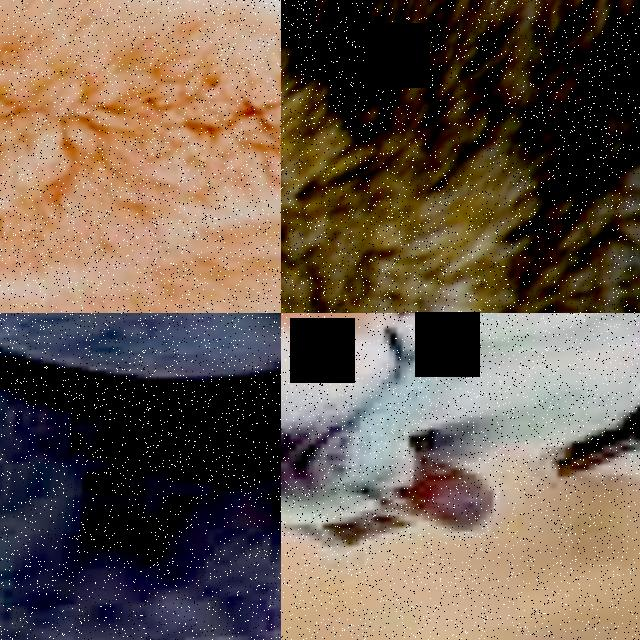dog: (281, 313, 640, 594), (0, 313, 281, 640), (0, 0, 281, 313)
wolf: (281, 0, 640, 313)
